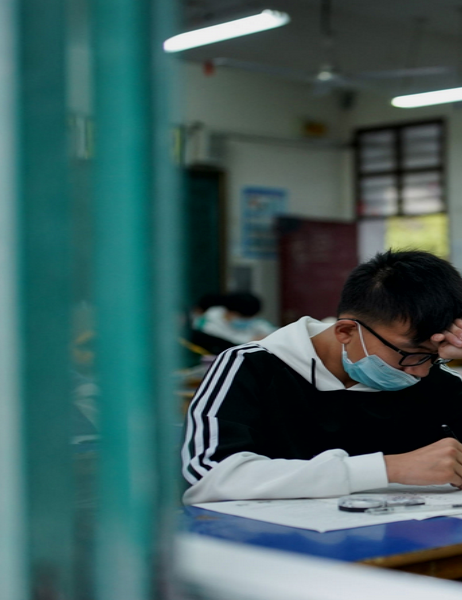mask_weared_incorrect: (344, 254, 462, 391)
